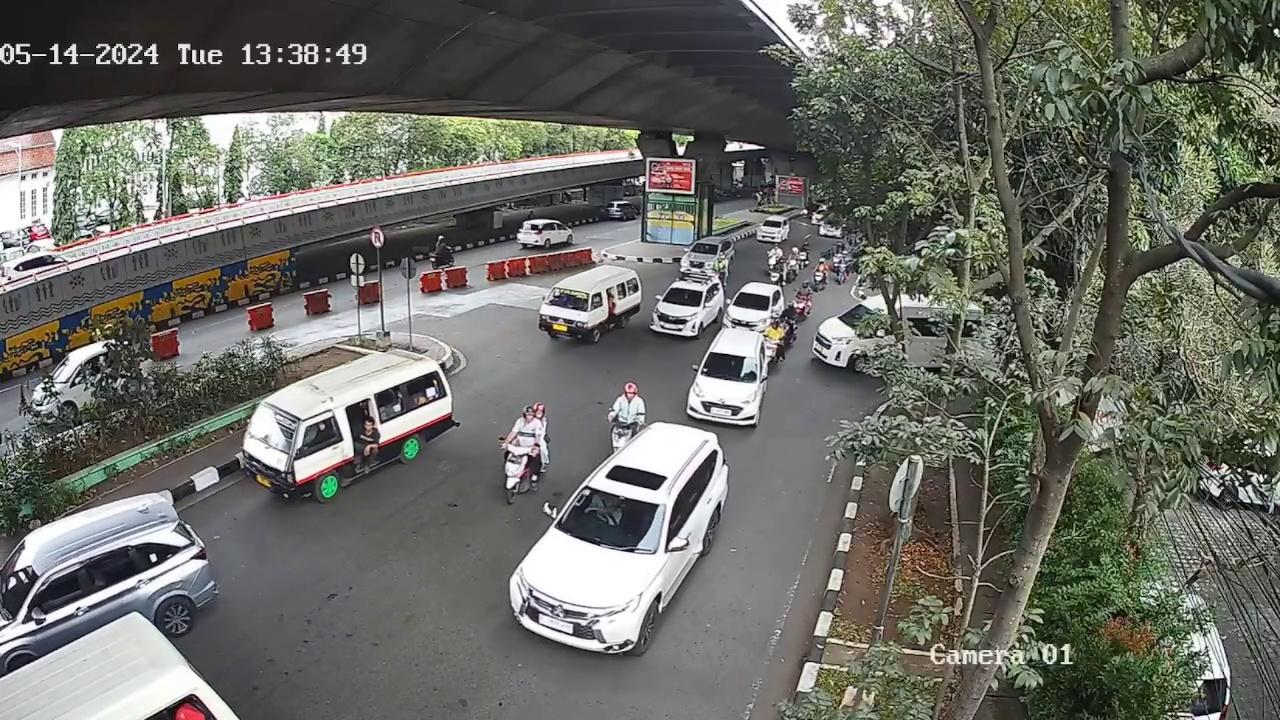pakai: (587, 489, 621, 524)
windshield: (566, 482, 666, 550), (241, 402, 305, 452), (699, 351, 763, 383), (538, 285, 593, 310), (661, 284, 704, 314), (731, 288, 773, 314)
